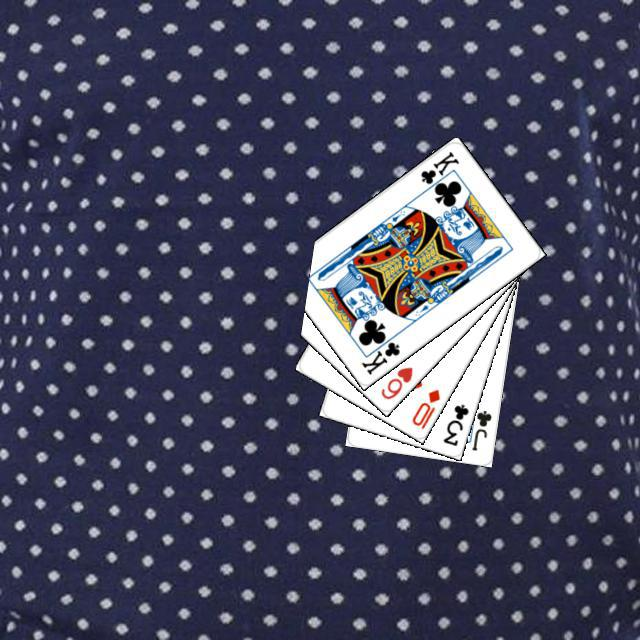10d: (407, 384, 442, 431)
3c: (438, 399, 470, 448)
6h: (376, 362, 415, 401)
Jc: (467, 405, 493, 452)
Kc: (356, 329, 402, 377), (416, 146, 461, 194)
